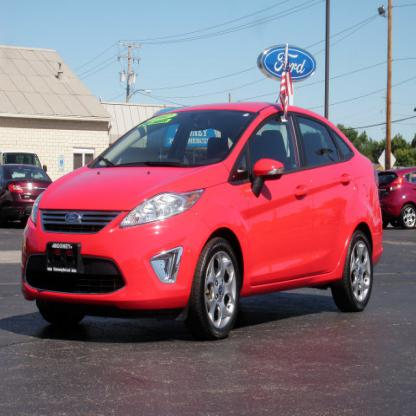Vehicle: (18, 100, 386, 339)
